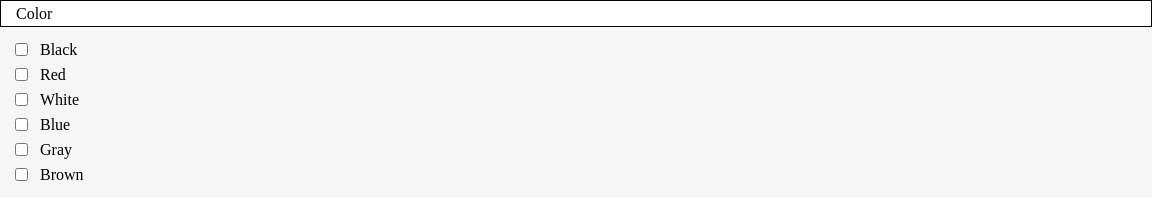
Test: ColorPicker › updates the filtered colors when a checkbox is clicked
Check: the checkbox labelled "black" is not checked, box [15,43,28,56]
Check: the checkbox labelled "white" is not checked, box [15,93,28,106]
Click the text "black" at (59, 50), box [40,41,77,58]
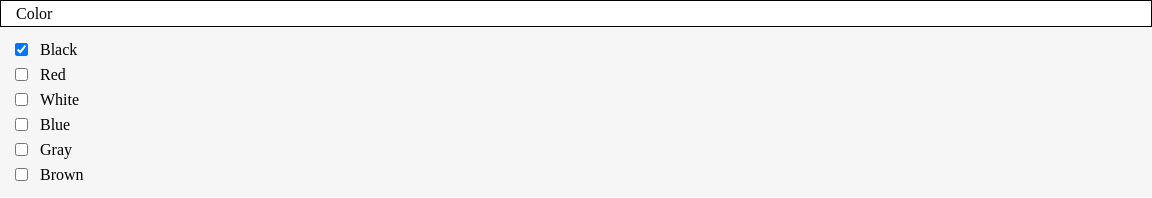
Check: the checkbox labelled "white" is not checked, box [15,93,28,106]
Check: the checkbox labelled "black" is checked, box [15,43,28,56]
Click the text "white" at (60, 100), box [40,91,79,108]
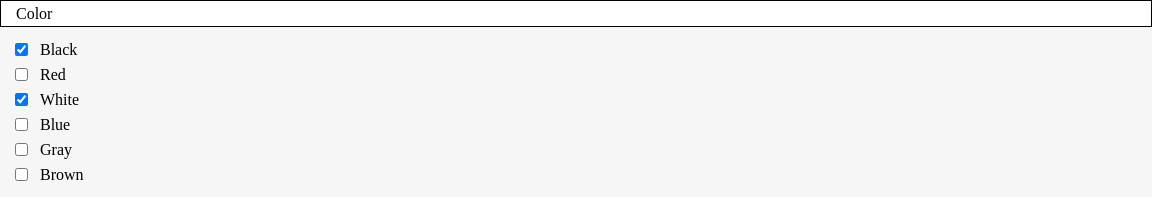
Check: the checkbox labelled "red" is not checked, box [15,68,28,81]
Check: the checkbox labelled "black" is checked, box [15,43,28,56]
Check: the checkbox labelled "white" is checked, box [15,93,28,106]
Click the text "red" at (53, 74), box [40,66,66,83]
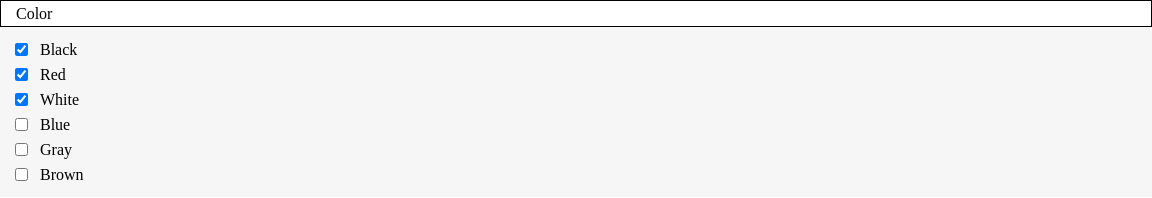
Check: the checkbox labelled "black" is checked, box [15,43,28,56]
Check: the checkbox labelled "white" is checked, box [15,93,28,106]
Check: the checkbox labelled "red" is checked, box [15,68,28,81]
